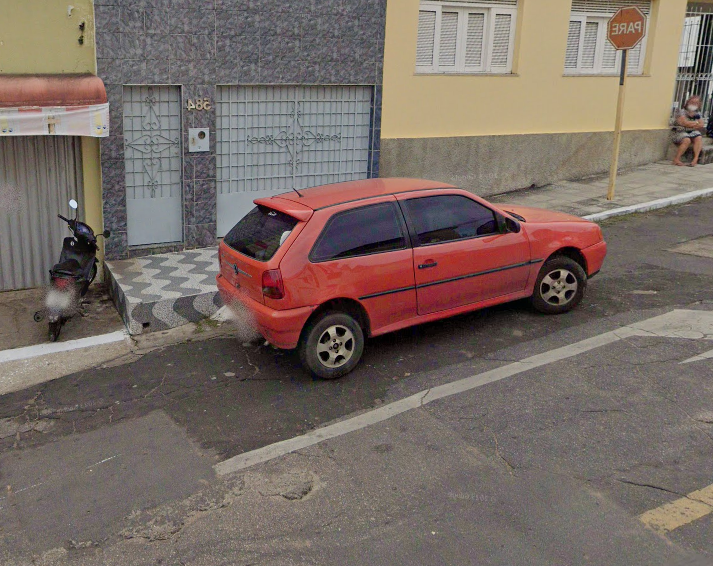car: (214, 169, 617, 385)
